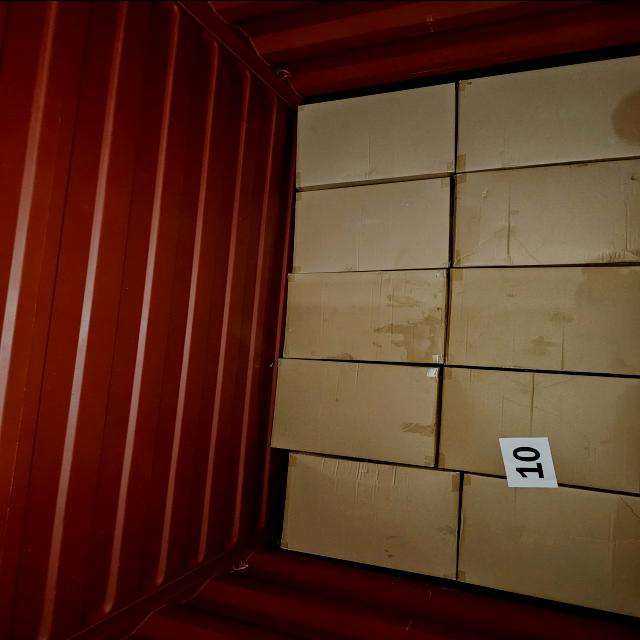Carton: (433, 364, 638, 502), (456, 480, 638, 605), (450, 161, 640, 267), (454, 55, 638, 161), (452, 268, 638, 372), (281, 464, 465, 566), (270, 358, 444, 458), (284, 270, 452, 364), (294, 91, 462, 182), (293, 178, 459, 270)
